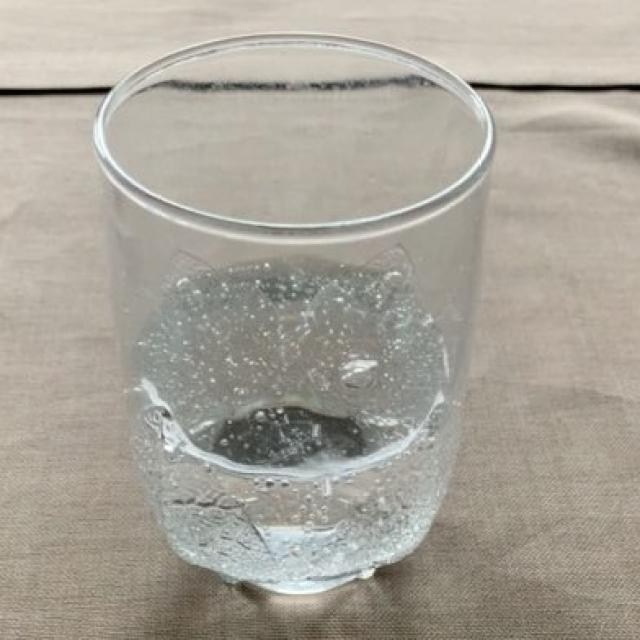water: (135, 261, 451, 539)
